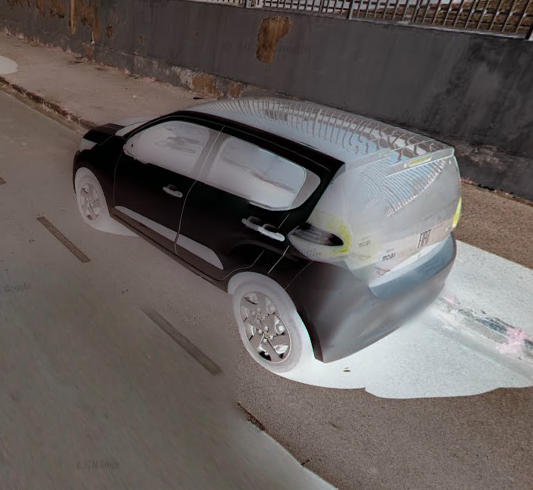car: (72, 94, 466, 375)
